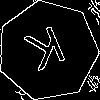K: (23, 25, 72, 80)
